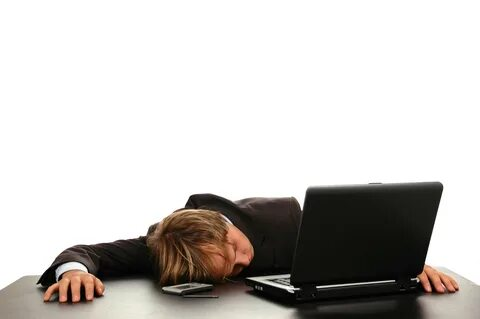sleep: (41, 193, 302, 308)
